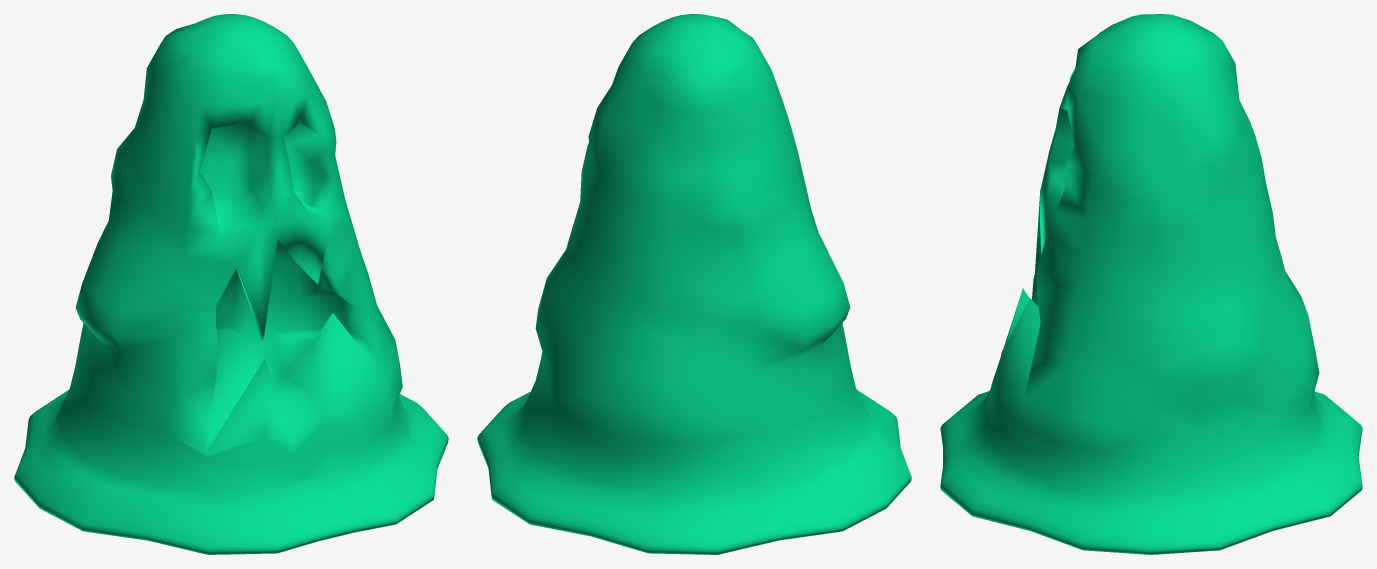
The model's file is Slime.fbx.
The picture shows the model from 3 angles, left to right: view 1: azimuth 30°, elevation 25°; view 2: azimuth 150°, elevation 25°; view 3: azimuth 270°, elevation 25°; orthographic projection.
Visible parts, largest first — view 1: pCylinder21; view 2: pCylinder21; view 3: pCylinder21.
Boxes of the visible parts, x1,y1,x2,y2 form: pCylinder21: (14,14,448,554); pCylinder21: (477,14,911,554); pCylinder21: (940,14,1362,554).
Bounding box in the file's own units: 159 × 174 × 151.
